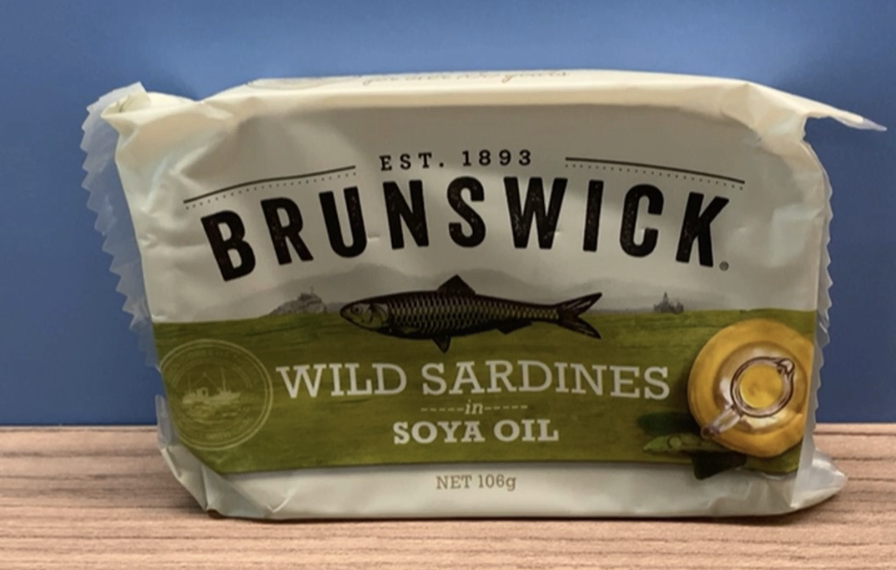sardines_150g: (148, 119, 802, 502)
